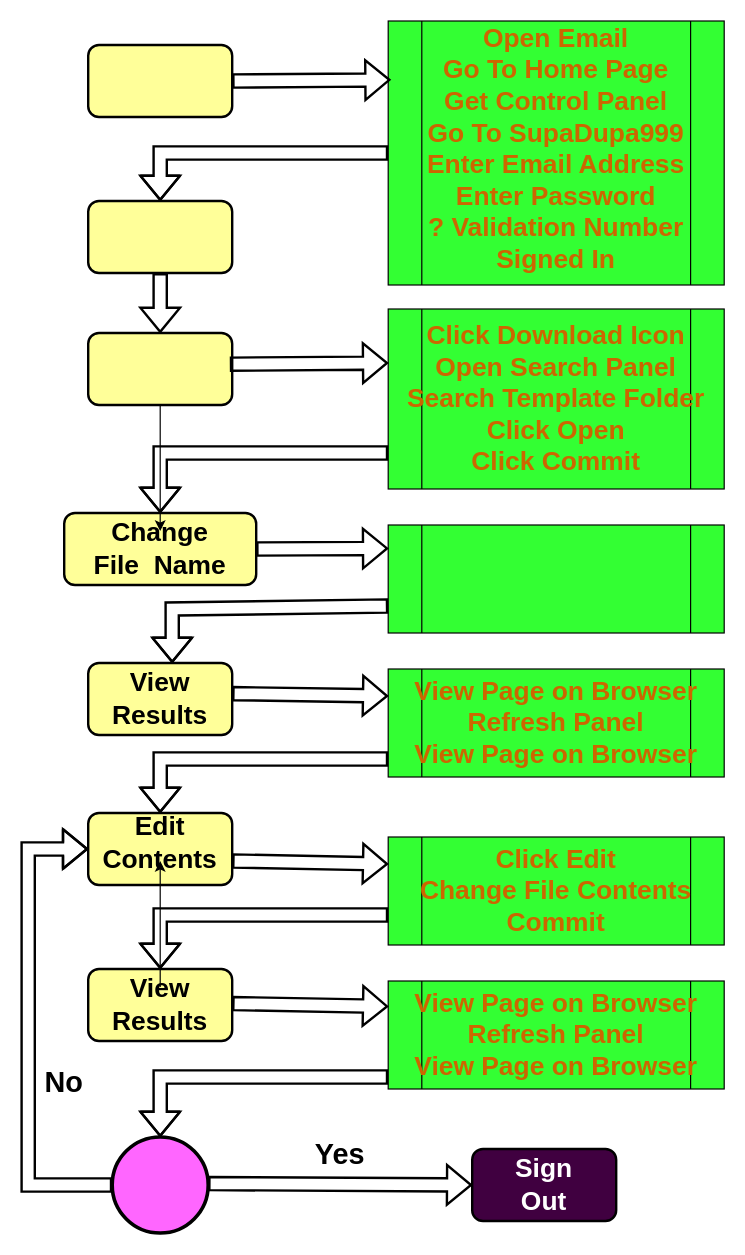
The diagram is 745 pixels wide and 1255 high, and some of its shapes have lost their labels. Each missing label, with the box of its shape:
? OK: (110, 1135, 209, 1234)
Click Edit Change File Name Commit: (387, 524, 724, 633)
Go to io: (86, 199, 233, 274)
Sign in: (86, 43, 233, 118)
Upload Template: (86, 331, 233, 406)
